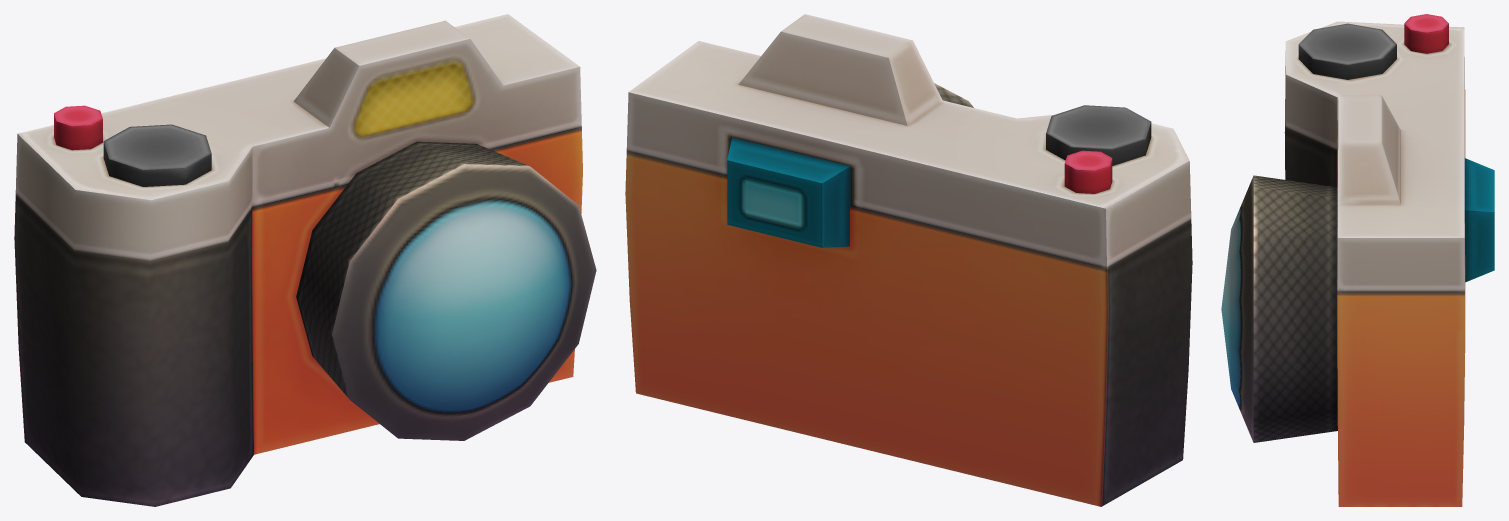
Rendered from SE_Camera_01.fbx.
The picture shows the model from 3 angles, left to right: view 1: azimuth 30°, elevation 25°; view 2: azimuth 150°, elevation 25°; view 3: azimuth 270°, elevation 25°; orthographic projection. The views are drawn at different scales.
Parts seen in each view (by area): view 1: SE_Camera_01; view 2: SE_Camera_01; view 3: SE_Camera_01.
Boxes of the visible parts, bbox=[...] form: SE_Camera_01: bbox=[14, 14, 596, 506]; SE_Camera_01: bbox=[625, 14, 1192, 506]; SE_Camera_01: bbox=[1221, 14, 1494, 506].
Bounding box in the file's own units: 1.71 × 1.16 × 0.8999.
